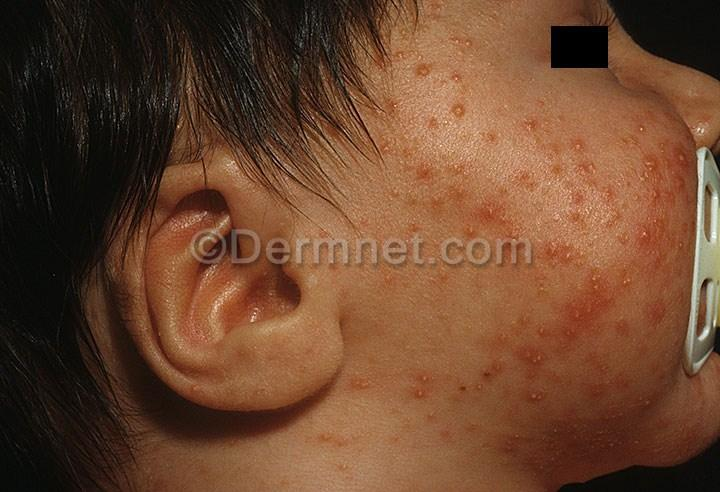Acne: (499, 335, 593, 423), (535, 256, 627, 337), (613, 139, 708, 215), (522, 148, 606, 233), (393, 356, 507, 417), (392, 138, 467, 200), (399, 99, 486, 152), (608, 213, 662, 267)
